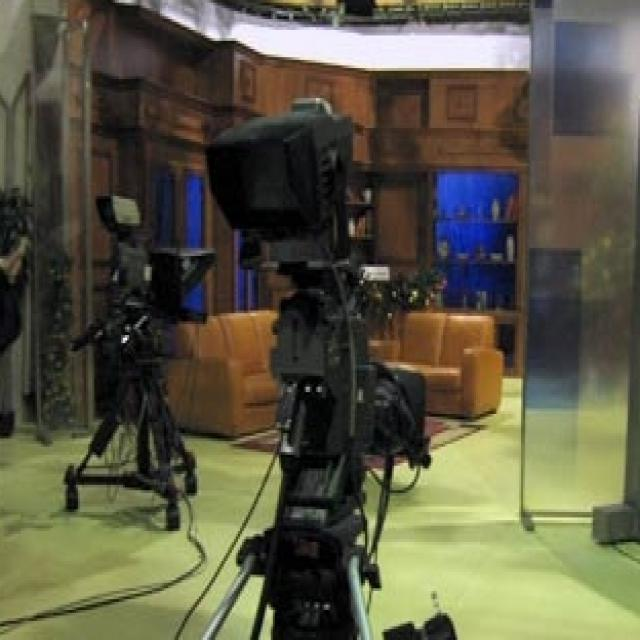ceiling beam: (216, 0, 529, 30)
floor -X: (0, 357, 638, 635)
glass ceiling: (521, 0, 638, 607)
sofa: (156, 300, 503, 438)
tv: (199, 93, 455, 635), (62, 191, 213, 528)
wall clock: (88, 0, 527, 414)
